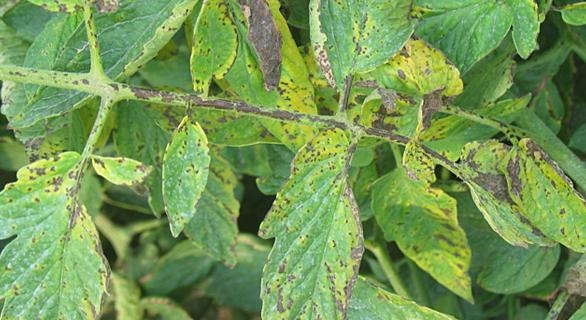Tomato leaf bacterial spot: (3, 0, 274, 123), (235, 128, 380, 320), (0, 137, 114, 320), (373, 161, 481, 311), (379, 0, 547, 81), (298, 0, 431, 100), (503, 129, 586, 259), (155, 113, 217, 241), (186, 0, 244, 98), (87, 154, 158, 192)
